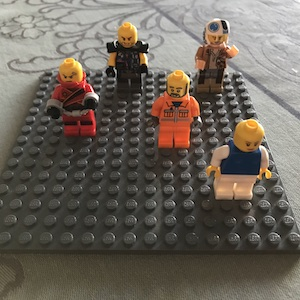Lego: (209, 119, 271, 202), (46, 57, 99, 138), (151, 70, 198, 151), (193, 20, 237, 95), (107, 23, 149, 92)
